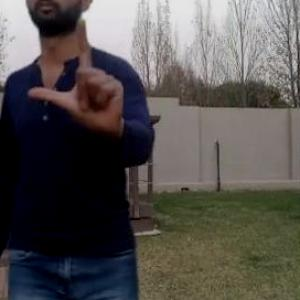land_hand: (29, 12, 129, 130)
